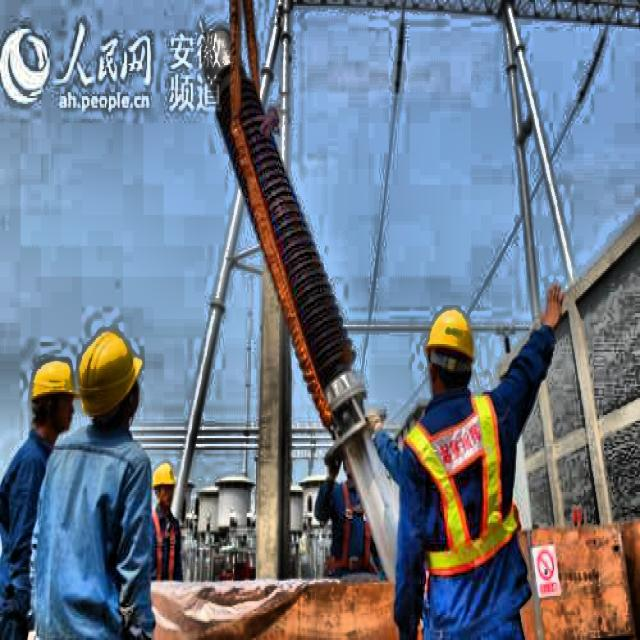helmet: (72, 323, 143, 432), (421, 302, 479, 400), (24, 352, 80, 446)
